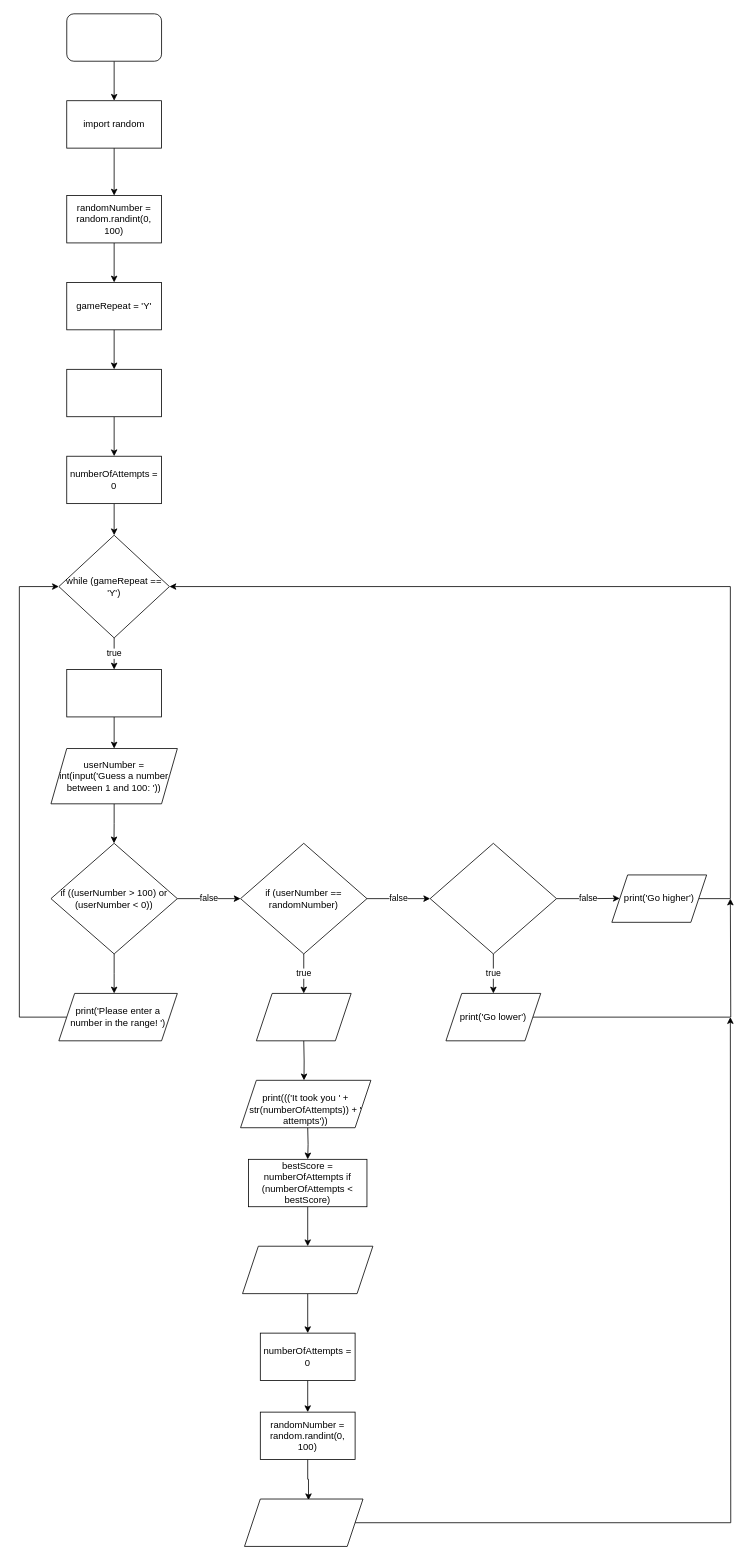
The diagram is 751 pixels wide and 1560 high, and some of its shapes have lost their labels. Here are the shapes that lost their labels. From the top down, the centre of each, then its label:
At pixel 114 37: "Start".
At pixel 114 393: "bestScore = 10000".
At pixel 114 693: "numberOfAttempts = (numberOfAttempts + 1)".
At pixel 493 898: "if (userNumber > randomNumber)".
At pixel 303 1017: "print('Correct!".
At pixel 307 1269: "print(('Best score so far is: ' + str(bestScore)))".
At pixel 303 1522: "gameRepeat = input('Wanna play again? ( Y or N): ')".
